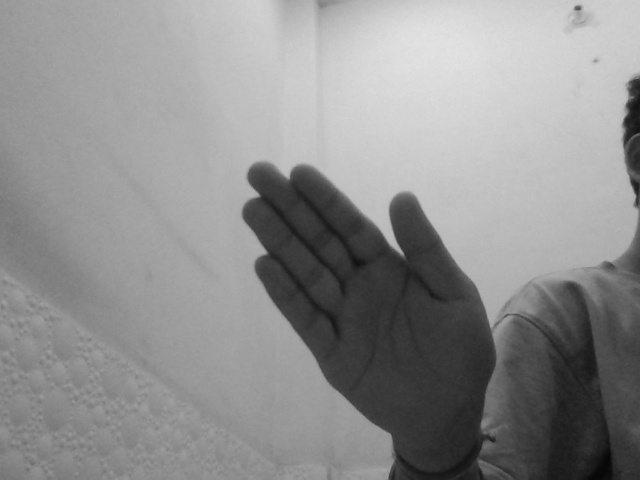Hello: (240, 160, 498, 447)
